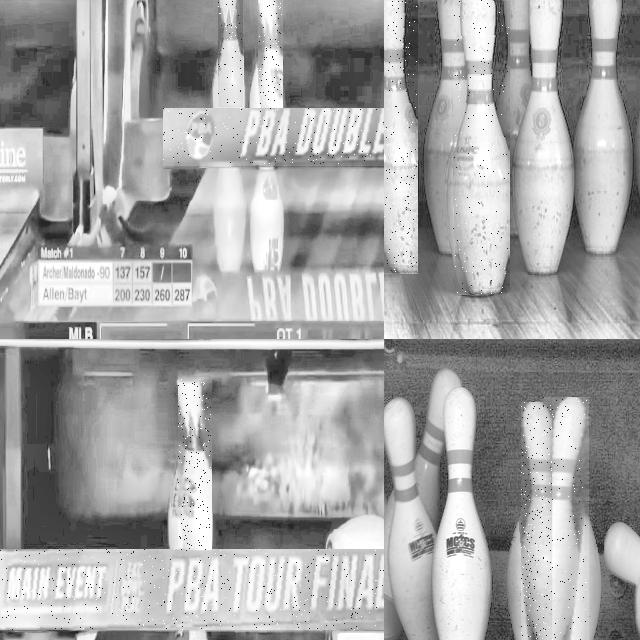bowling-pins: (454, 0, 509, 294), (544, 397, 587, 640), (425, 0, 465, 253), (384, 0, 417, 272), (495, 0, 532, 235), (521, 403, 552, 640), (179, 380, 211, 550), (218, 0, 242, 106), (260, 0, 282, 105), (533, 107, 552, 151)
sweep board: (0, 549, 384, 630), (163, 109, 384, 164)
